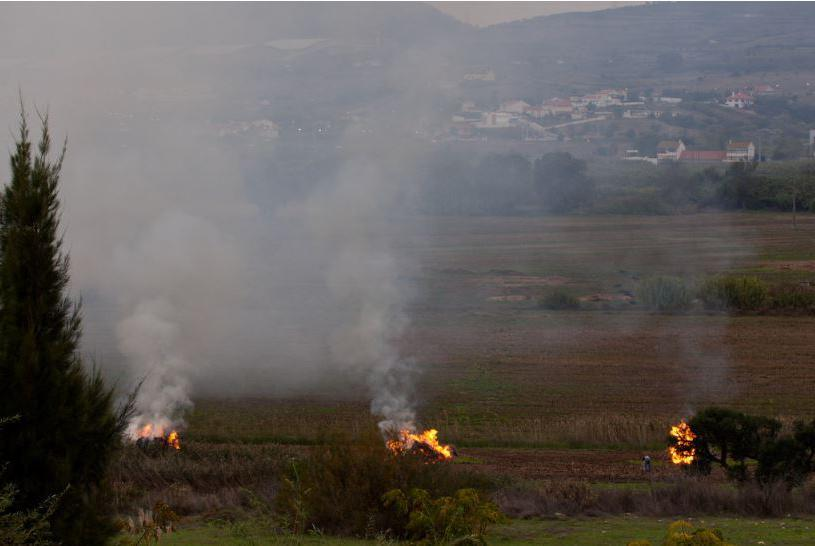Fire: (390, 426, 454, 461), (673, 418, 702, 466), (141, 420, 185, 449)
